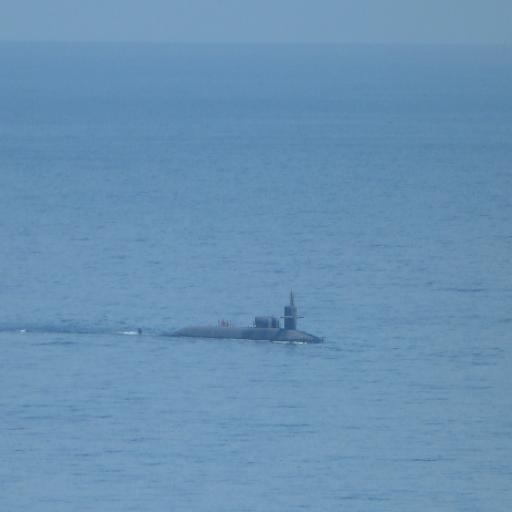submarine: (164, 288, 349, 337)
